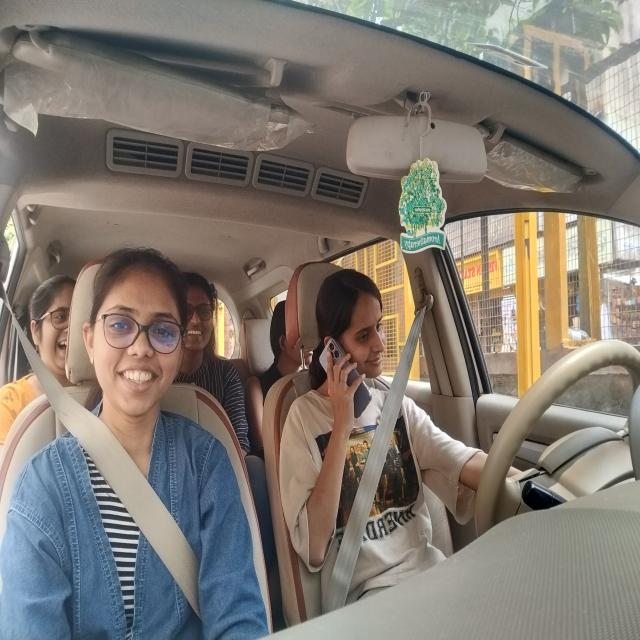mobile: (317, 337, 374, 423)
person: (82, 249, 186, 416), (320, 270, 393, 380), (27, 274, 75, 378), (185, 275, 222, 359)
